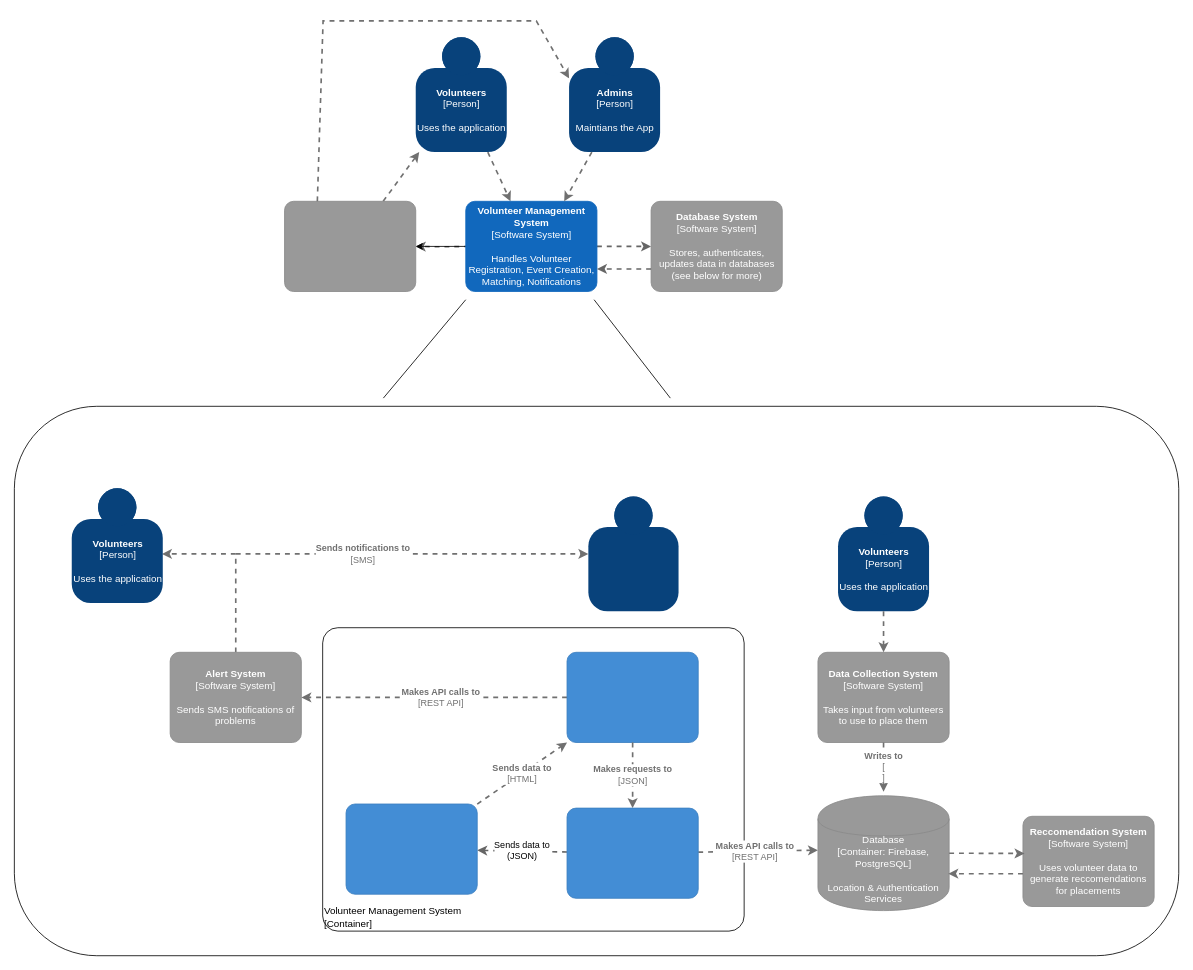
The diagram is 1193 pixels wide and 970 high, and some of its shapes have lost their labels. Here are the shapes that lost their labels. From the top down, the centre of each, then its label:
At pixel 350 246: "Notification System [Software System] Twilio API, Email Service".
At pixel 633 553: "Admin [Person] Monitors the pipeline".
At pixel 632 697: "Web Application [Container: React/Flutter] Status Dashboard".
At pixel 411 848: "Visualisation Dashboard [Container: Graphics libaries]".
At pixel 632 852: "API Service [Container: Java/Python]".
